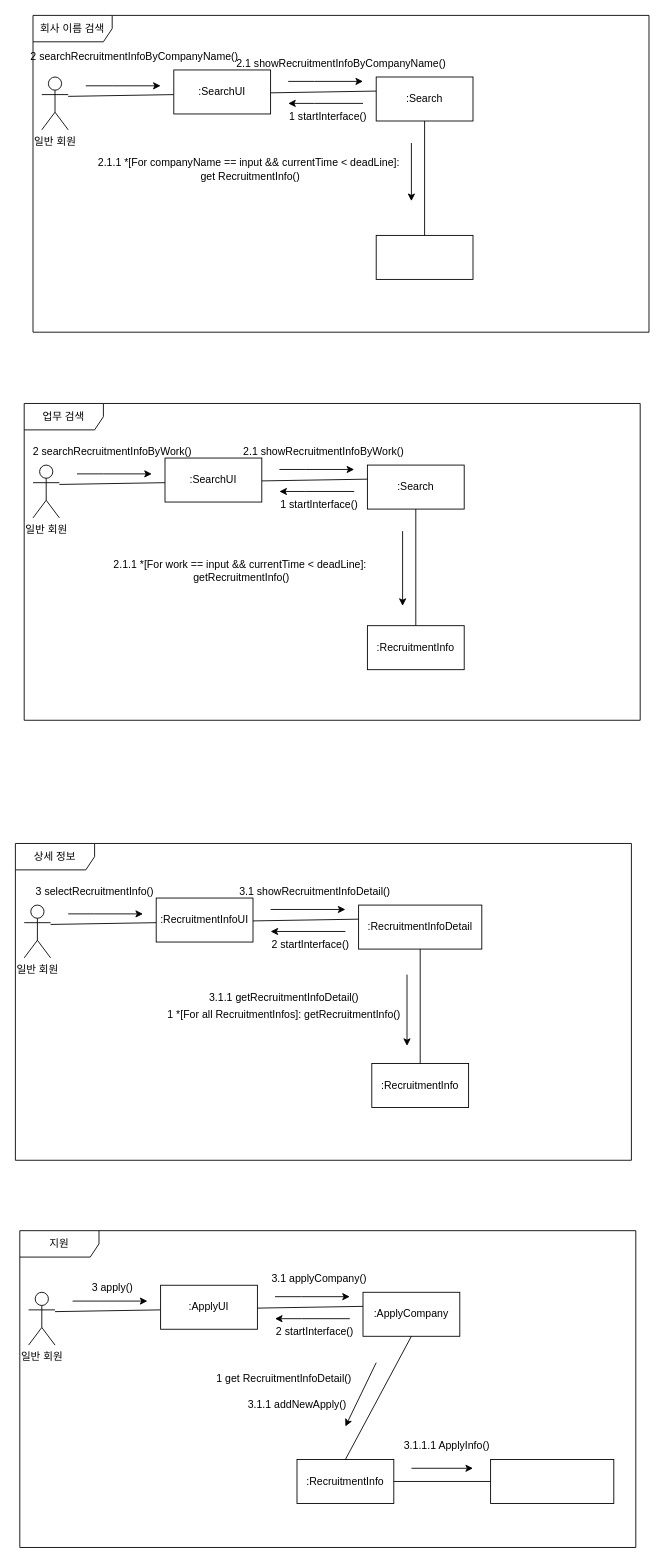
Image size: 664x1563. Some labels were removed from this diagram. Here are the shapes that lost their labels. From the top down, the centre of each, then its label:
the point at 424,257: : RecruitmentInfo
the point at 552,1481: newApplyInfo:ApplyInfo
